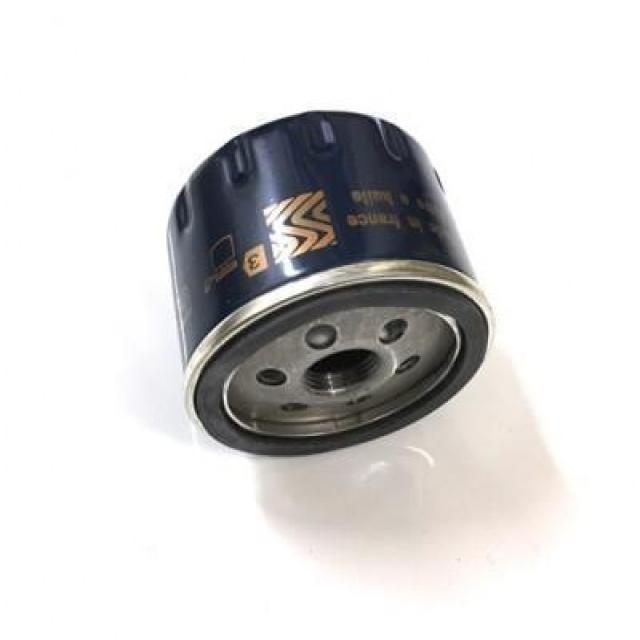oil_filter: (162, 90, 502, 484)
